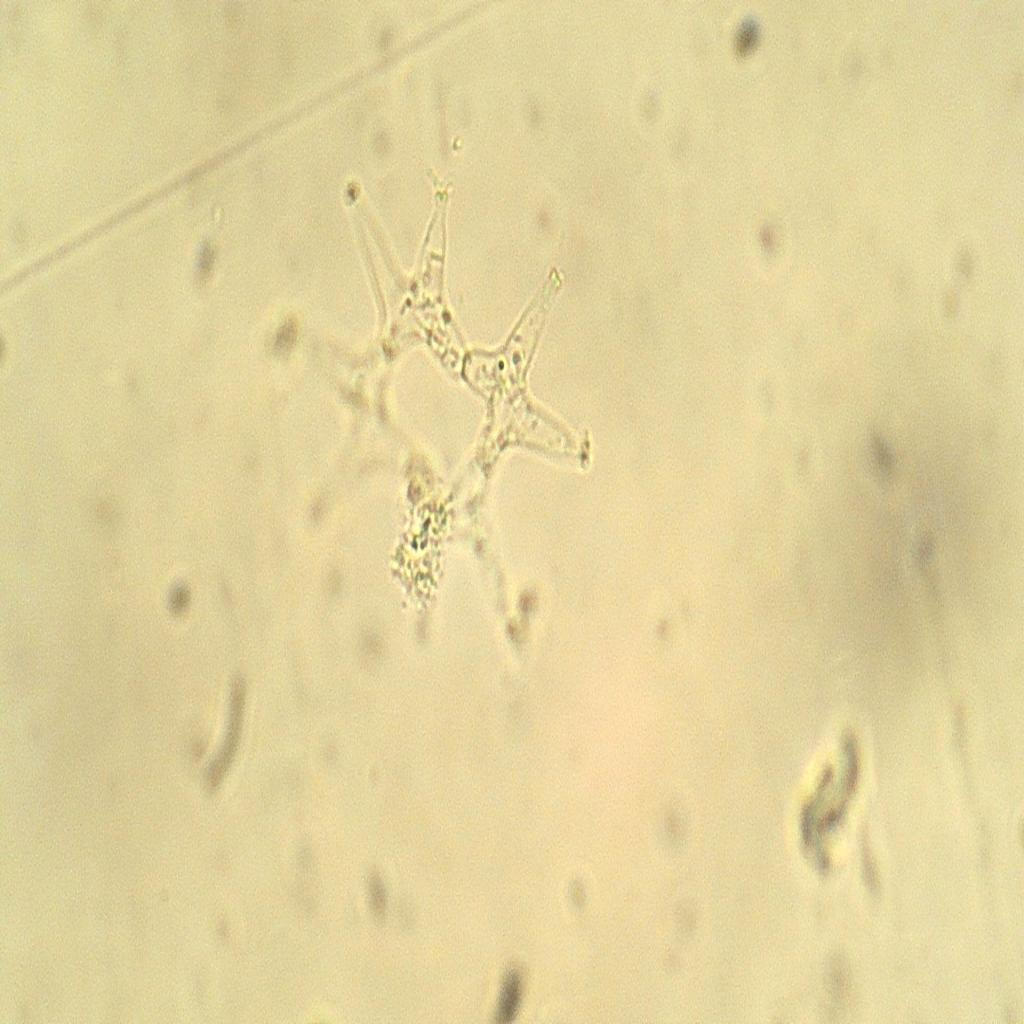Pediastrum_75TH: (227, 146, 618, 704)
